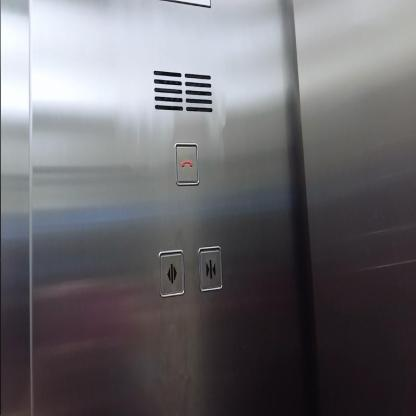call: (172, 138, 202, 188)
close: (196, 243, 224, 294)
open: (158, 247, 185, 300)
